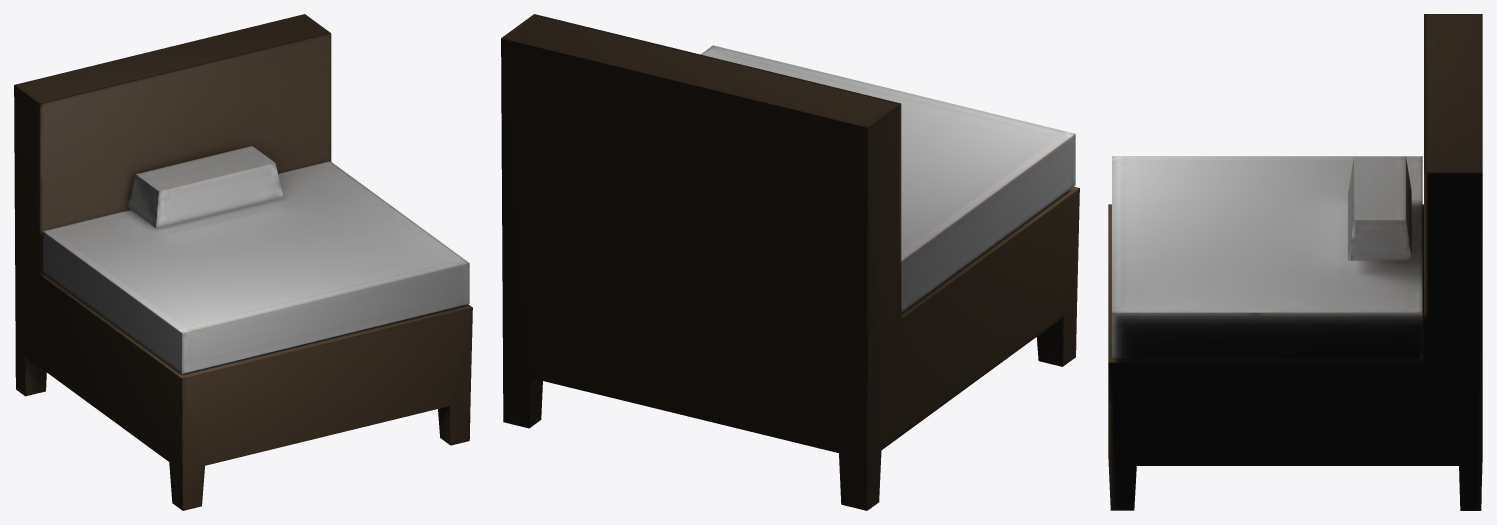
File: bed.glb
The picture shows the model from 3 angles, left to right: view 1: azimuth 30°, elevation 25°; view 2: azimuth 150°, elevation 25°; view 3: azimuth 270°, elevation 25°; orthographic projection. The views are drawn at different scales.
Visible parts, largest first — view 1: bed_bake; view 2: bed_bake; view 3: bed_bake.
Part boxes in pixels (x1=…): bed_bake: x1=14, y1=14, x2=472, y2=510; bed_bake: x1=501, y1=14, x2=1079, y2=510; bed_bake: x1=1108, y1=14, x2=1482, y2=510.
Size of the model in its own units: 1 by 1 by 1.
Materials: 1 (1 with a texture image).
